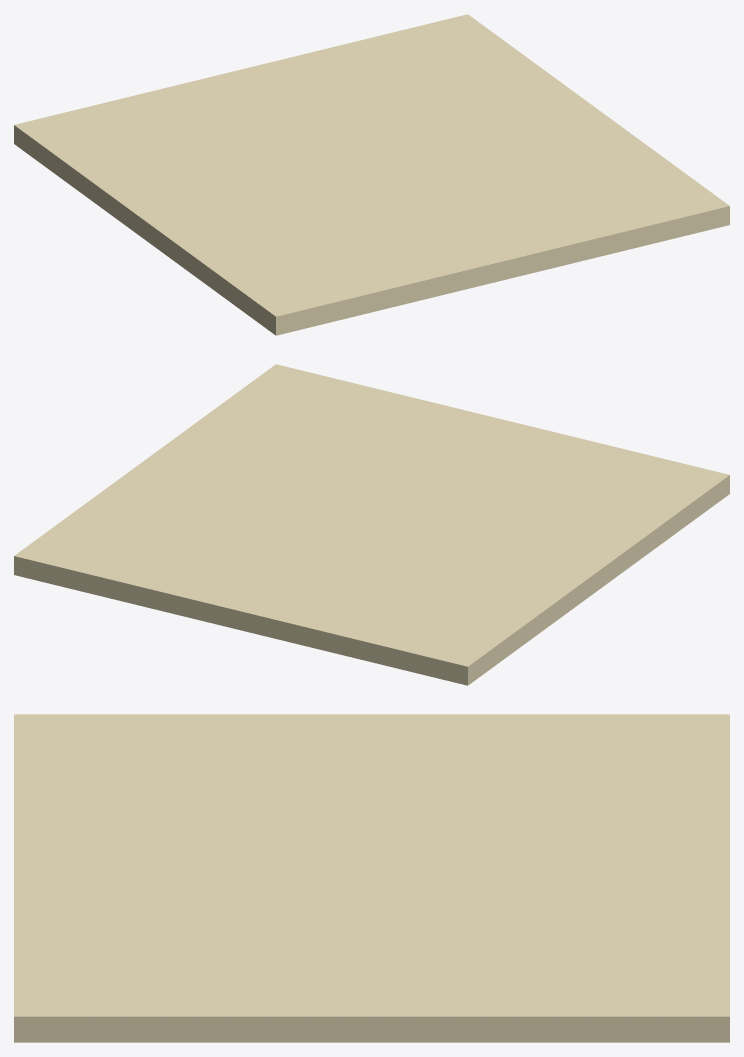
Rendered from underwater-reef-worlds-flat-sand-tile-3b149272__7055.glb.
The picture shows the model from 3 angles, top to bottom: view 1: azimuth 30°, elevation 25°; view 2: azimuth 150°, elevation 25°; view 3: azimuth 270°, elevation 25°; orthographic projection. The views are drawn at different scales.
Parts seen in each view (by area): view 1: flat-sand-tile; view 2: flat-sand-tile; view 3: flat-sand-tile.
Boxes of the visible parts, x1,y1,x2,y2 form: flat-sand-tile: [14, 14, 729, 335]; flat-sand-tile: [14, 364, 729, 685]; flat-sand-tile: [14, 714, 729, 1042].
Size of the model in its own units: 4 by 0.1602 by 4.
